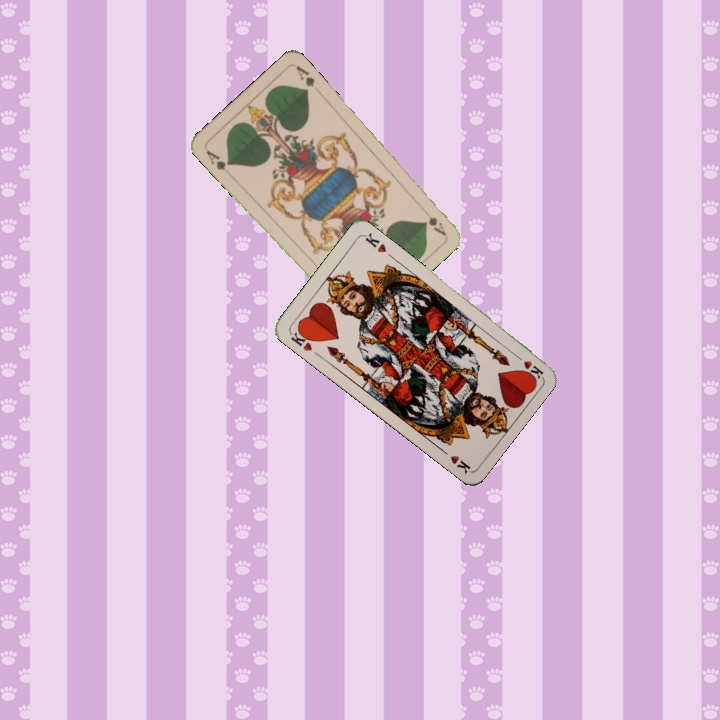GA: (417, 204, 448, 238), (201, 146, 233, 173)
HK: (509, 349, 545, 381), (286, 325, 316, 354)
